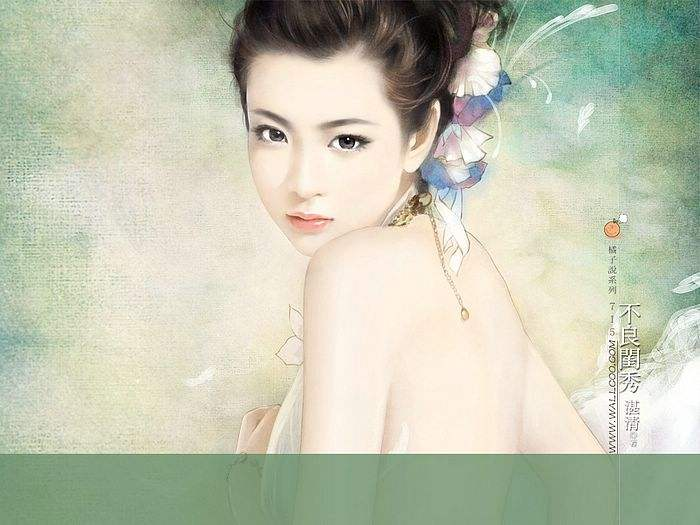person: (229, 8, 615, 436)
